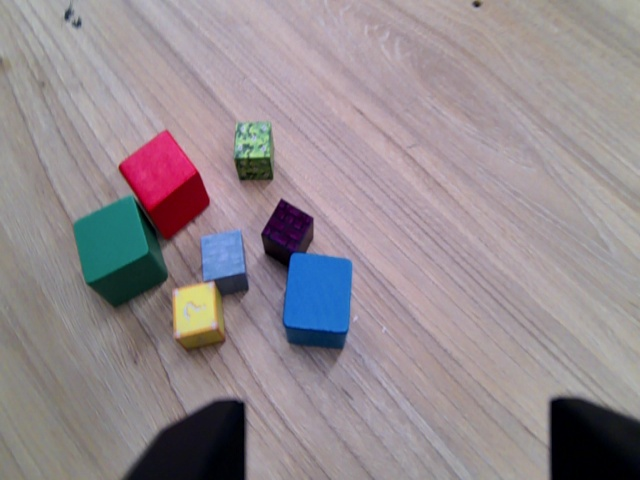brick: (262, 197, 314, 254)
grass: (230, 118, 276, 176)
lucky: (173, 282, 228, 347)
stone: (197, 232, 251, 289)
